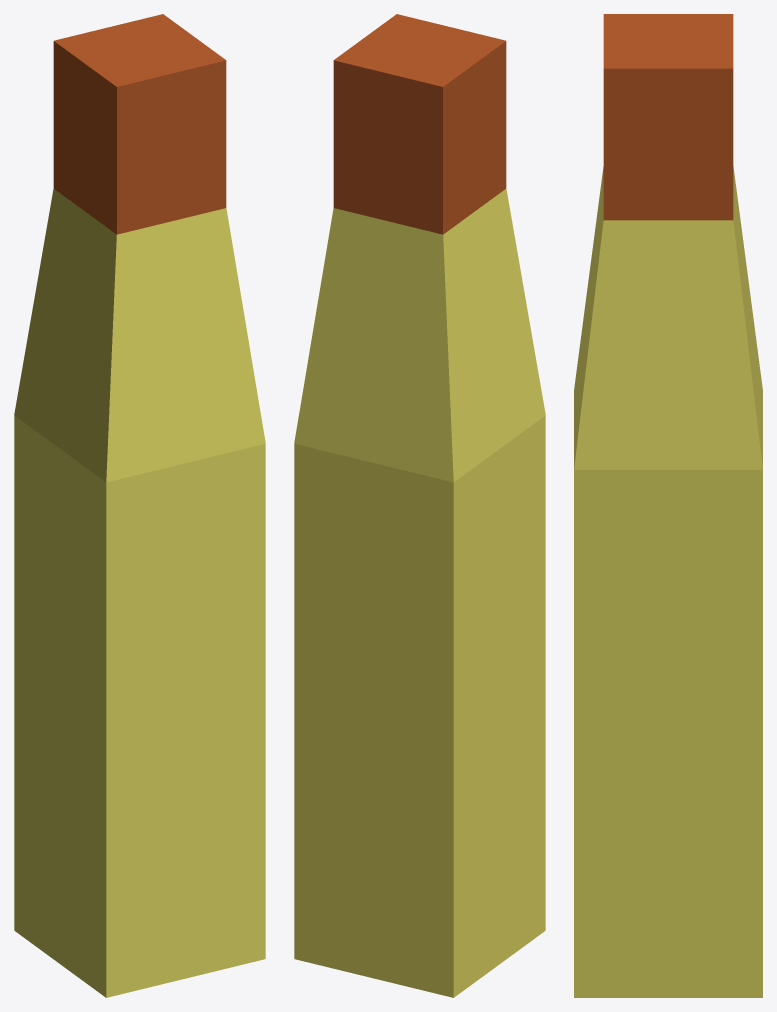
Rendered from Ammo_50cal.FBX.
3 renders of one model, left to right at view 1: azimuth 30°, elevation 25°; view 2: azimuth 150°, elevation 25°; view 3: azimuth 270°, elevation 25°, orthographic. The views are drawn at different scales.
Visible parts, largest first — view 1: Ammo_50cal, Bullet_50cal; view 2: Ammo_50cal, Bullet_50cal; view 3: Ammo_50cal, Bullet_50cal.
Boxes of the visible parts, bbox=[...] form: Ammo_50cal: bbox=[14, 189, 265, 997]; Bullet_50cal: bbox=[53, 14, 226, 234]; Ammo_50cal: bbox=[294, 189, 545, 997]; Bullet_50cal: bbox=[333, 14, 506, 234]; Ammo_50cal: bbox=[574, 166, 762, 997]; Bullet_50cal: bbox=[603, 14, 733, 220].
Size of the model in its own units: 4.33 by 4.33 by 23.18.
